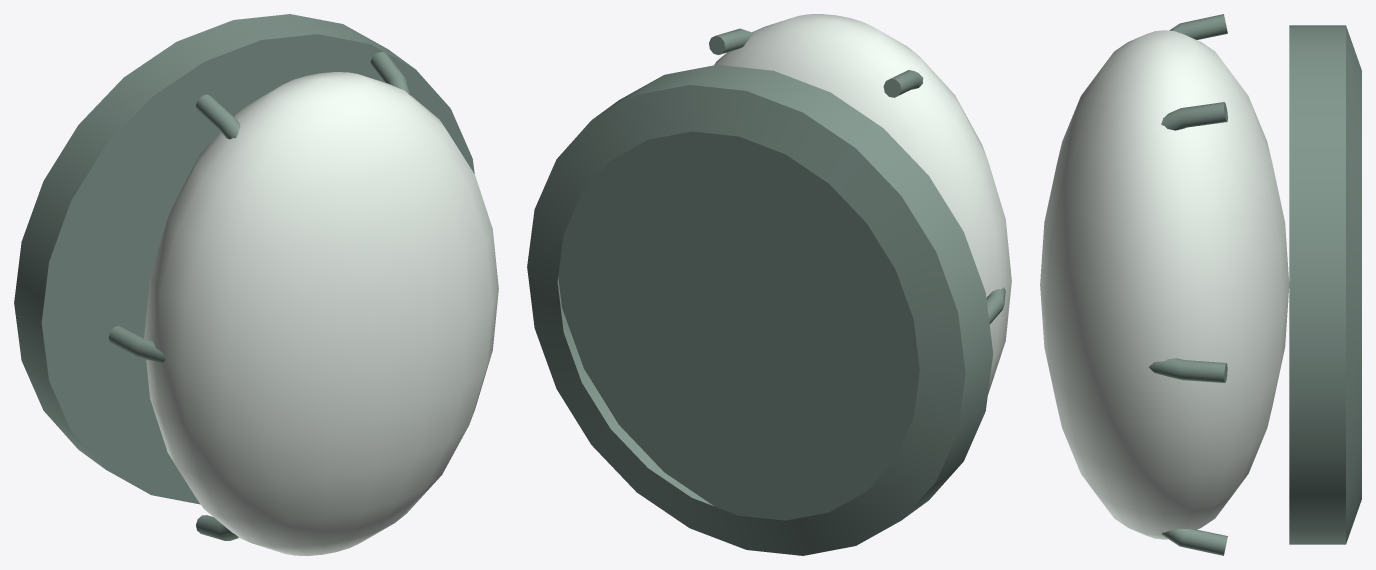
Rendered from CTCC_PROP_BulkheadLamp.fbx.
The picture shows the model from 3 angles, left to right: view 1: azimuth 30°, elevation 25°; view 2: azimuth 150°, elevation 25°; view 3: azimuth 270°, elevation 25°; orthographic projection. The views are drawn at different scales.
Parts seen in each view (by area): view 1: CTCC_PROP_BulkheadLamp; view 2: CTCC_PROP_BulkheadLamp; view 3: CTCC_PROP_BulkheadLamp.
Boxes of the visible parts, x1,y1,x2,y2 form: CTCC_PROP_BulkheadLamp: (14, 14, 498, 555); CTCC_PROP_BulkheadLamp: (527, 14, 1011, 555); CTCC_PROP_BulkheadLamp: (1040, 14, 1361, 555).
Bounding box in the file's own units: 0.23 × 0.235 × 0.142.
